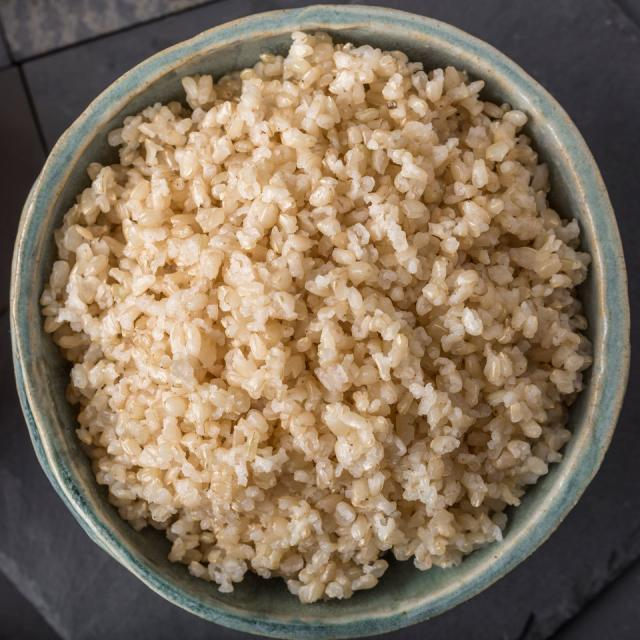Rice: (35, 26, 597, 609)
